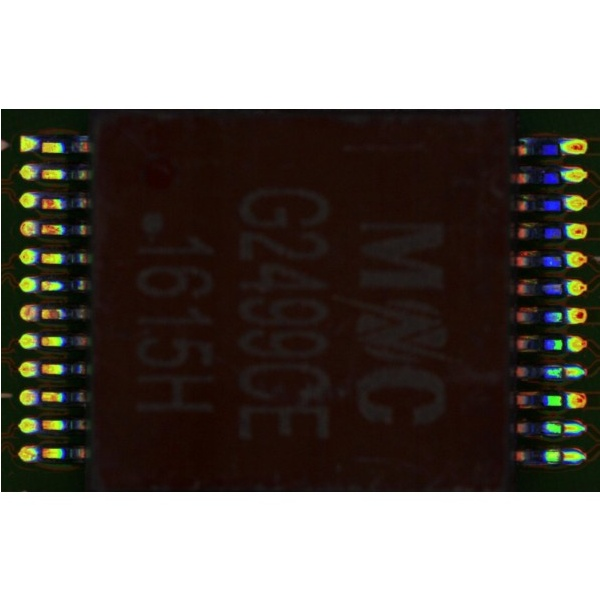Bad_podu: (554, 423, 576, 431), (551, 368, 575, 375), (549, 452, 572, 459)
